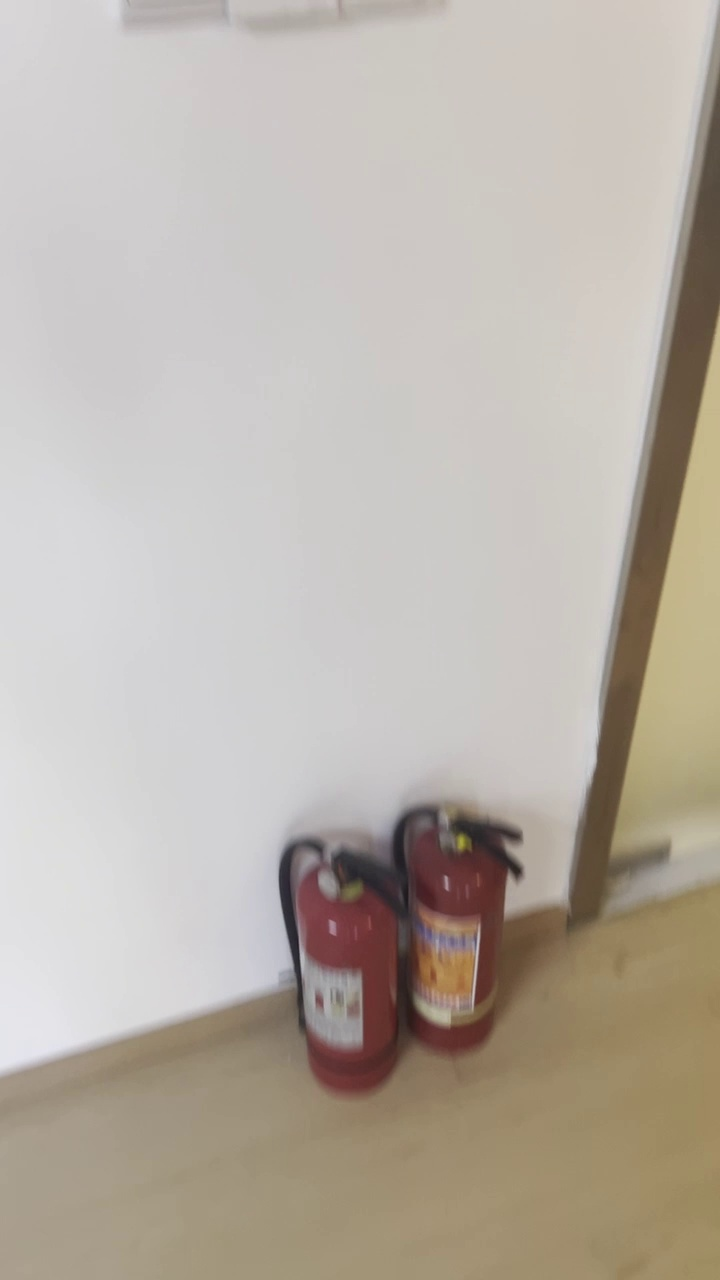button: (350, 453, 488, 573)
